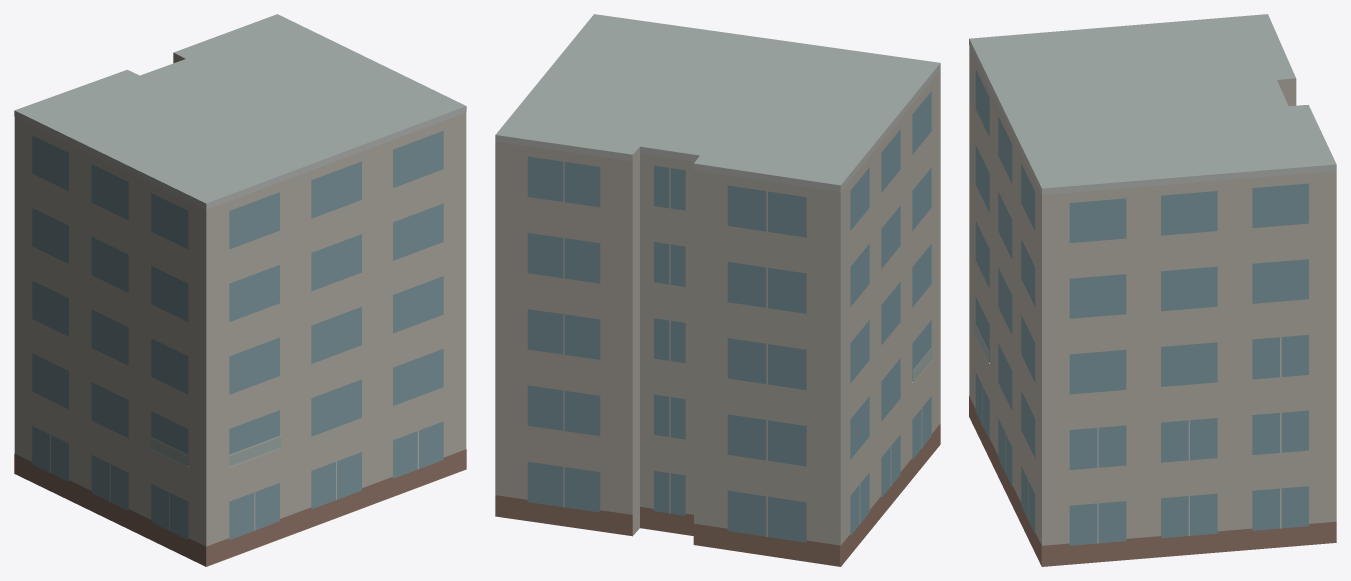
File: survey-upis-32705558.glb
3 views of the same model, side by side, from view 1: azimuth 30°, elevation 25°; view 2: azimuth 150°, elevation 25°; view 3: azimuth 270°, elevation 25° (orthographic). The views are drawn at different scales.
Parts seen in each view (by area): view 1: survey-upis-32705558.tmp; view 2: survey-upis-32705558.tmp; view 3: survey-upis-32705558.tmp.
Boxes of the visible parts, x1,y1,x2,y2 form: survey-upis-32705558.tmp: [14, 14, 466, 566]; survey-upis-32705558.tmp: [495, 14, 940, 566]; survey-upis-32705558.tmp: [969, 14, 1336, 566].
Bounding box in the file's own units: 13.87 × 14.01 × 12.34.
